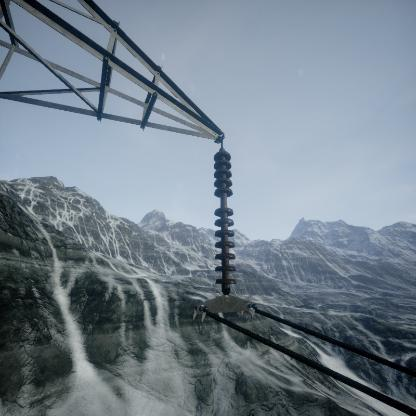insulator: (212, 147, 237, 295)
